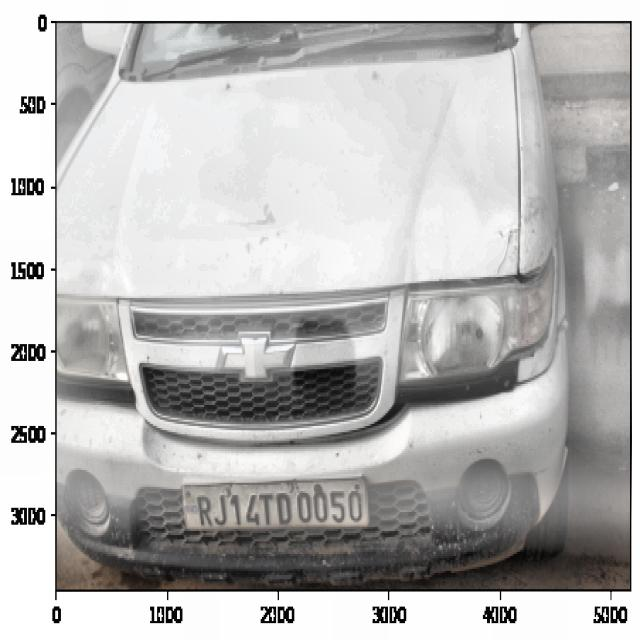license_plate: (192, 483, 366, 532)
